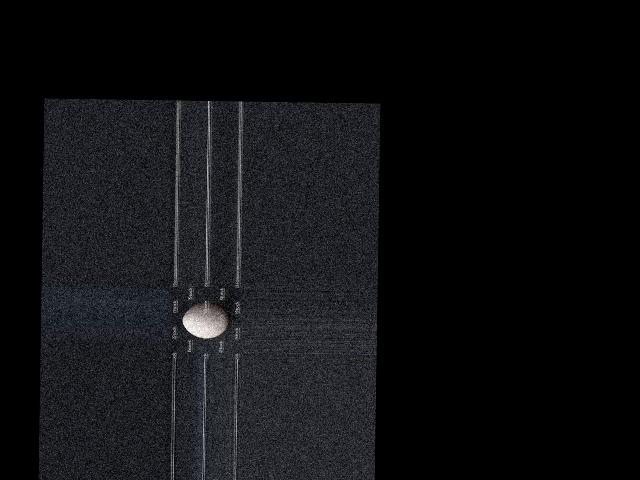egg: (182, 302, 229, 338)
